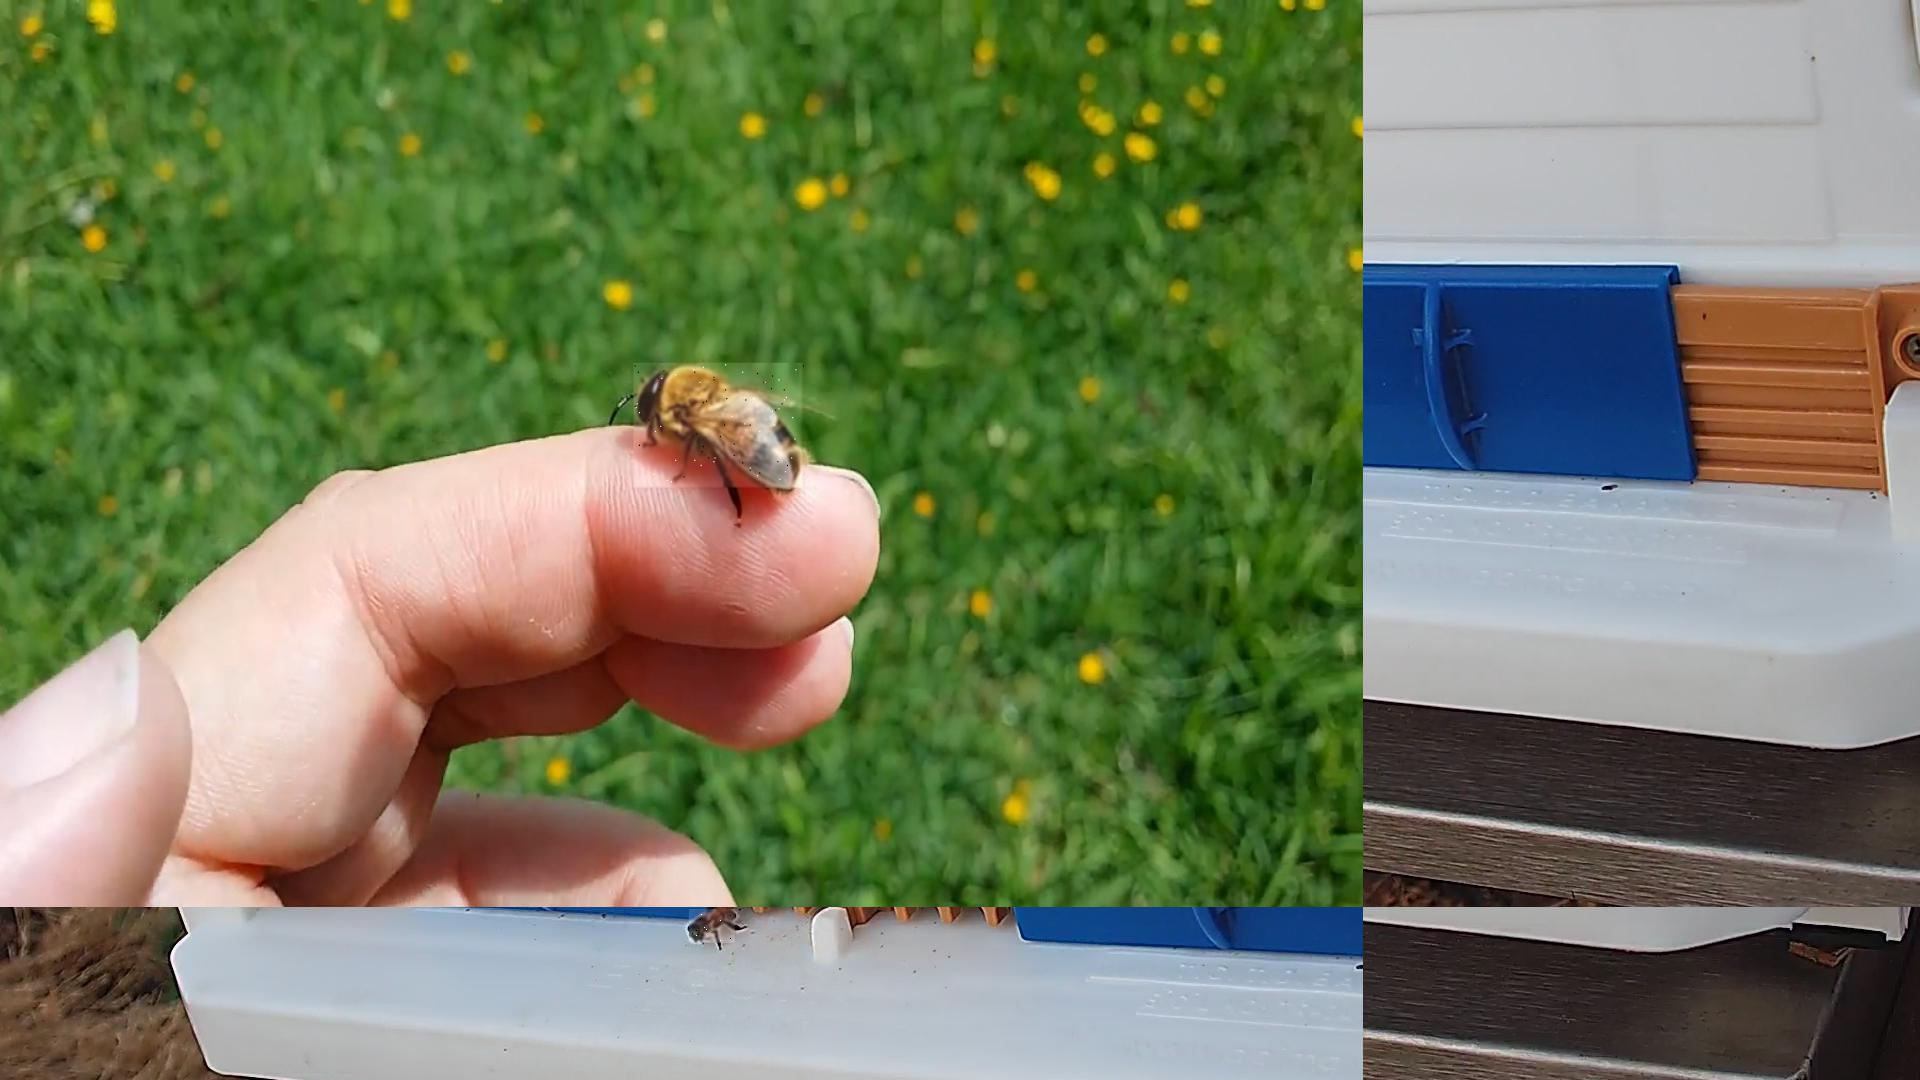bee: (689, 909, 736, 944)
drone: (635, 364, 806, 490)
